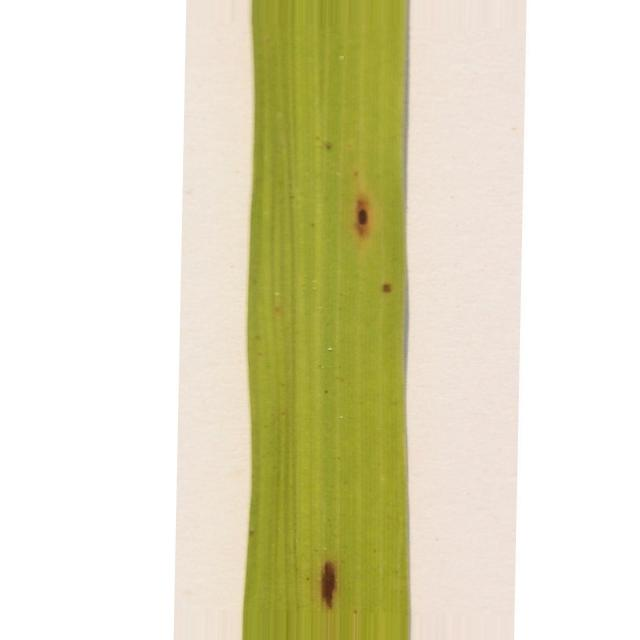Brown_Spot: (321, 562, 336, 608), (355, 196, 371, 236), (381, 282, 391, 293)
